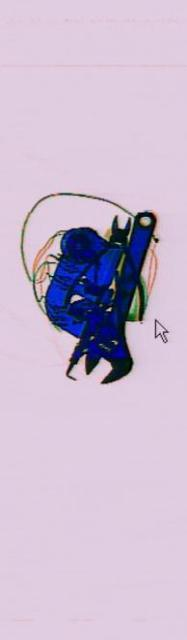Pliers: (61, 175, 148, 355)
Wrench: (81, 155, 160, 437)
